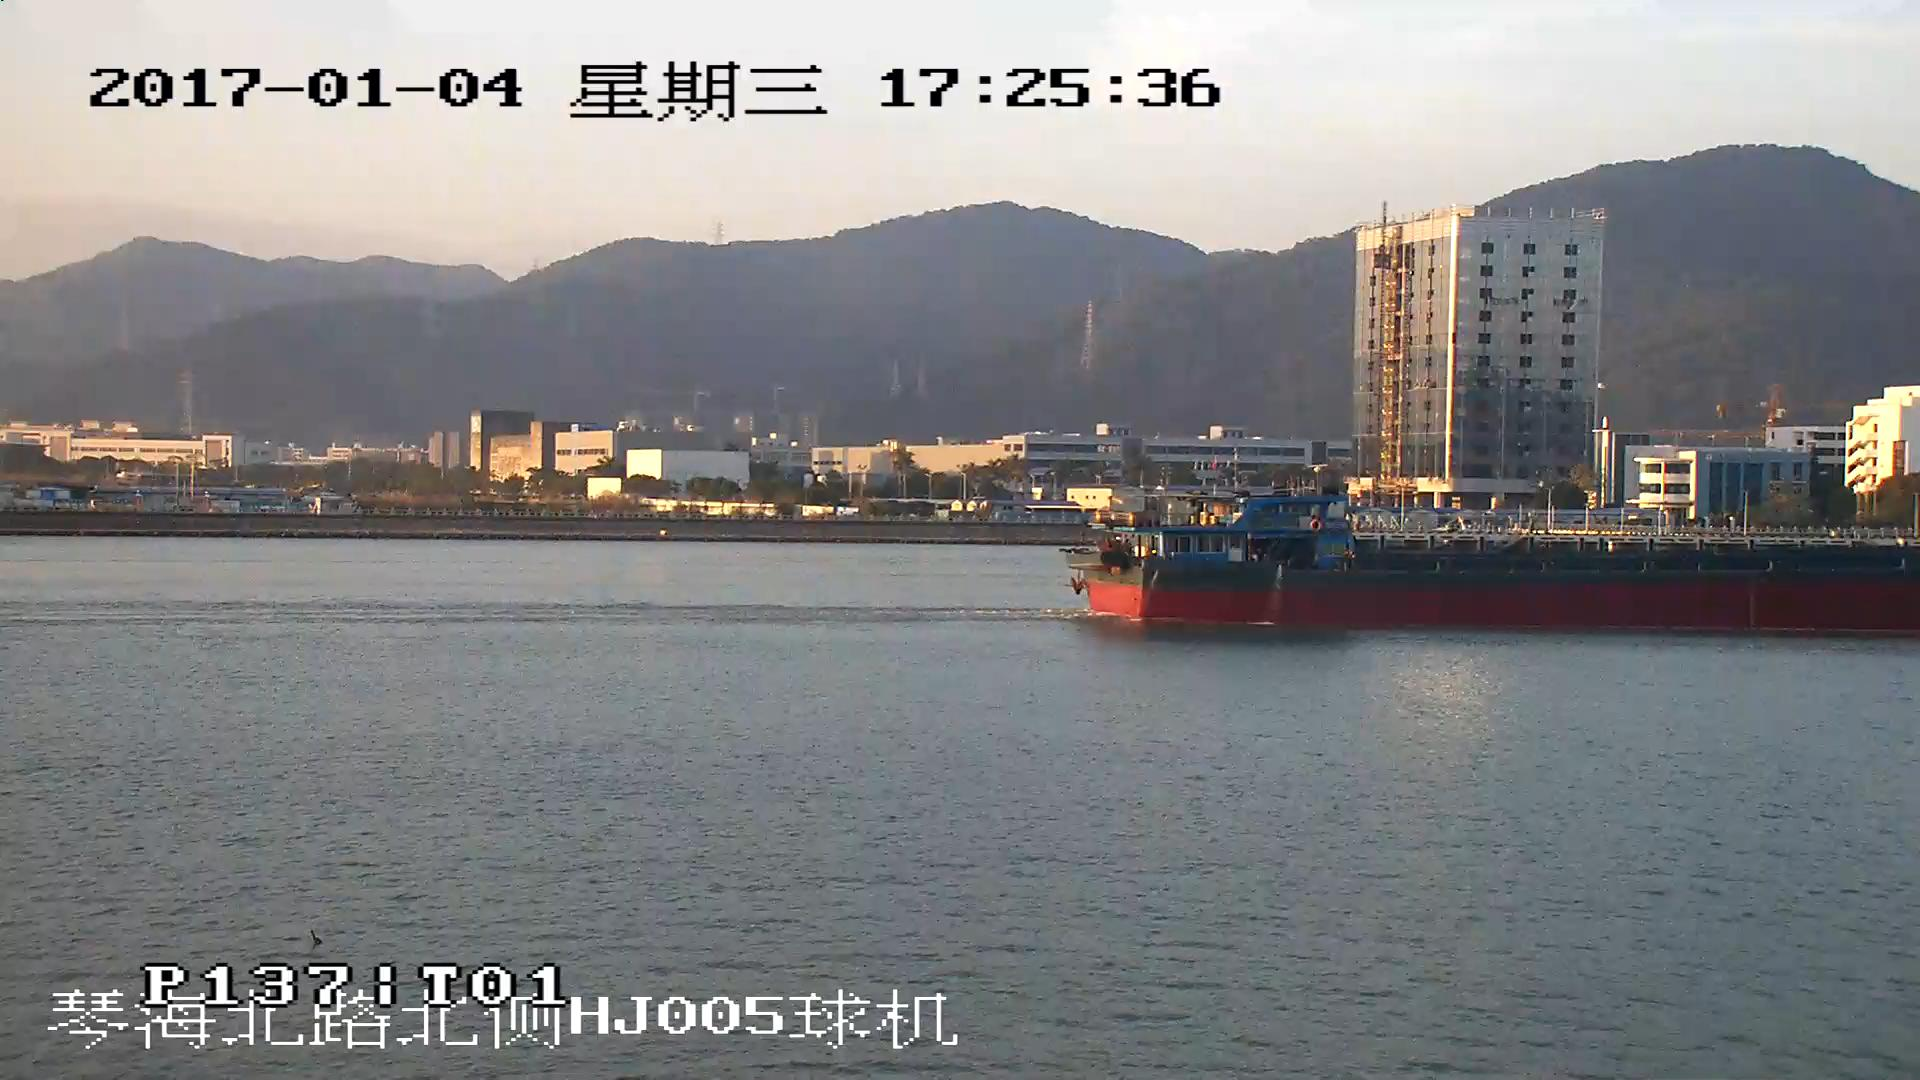general cargo ship: (1065, 488, 1920, 637)
